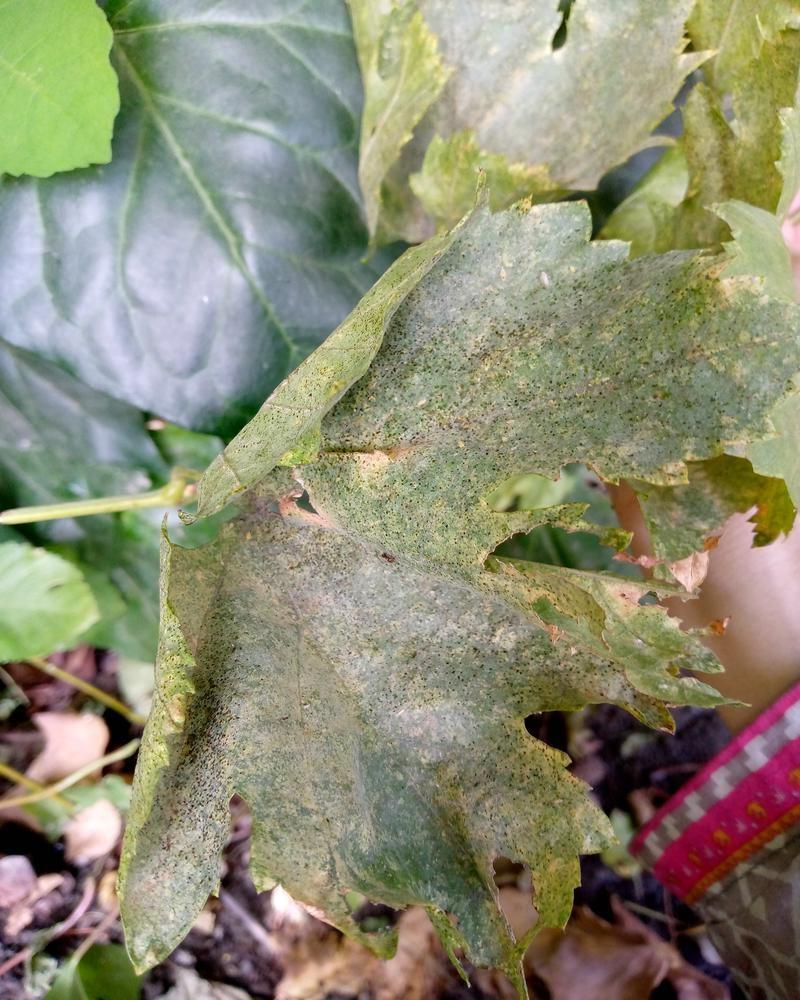Powdery-Mildew: (323, 552, 516, 782), (400, 207, 620, 361), (109, 709, 231, 958), (639, 255, 799, 443), (239, 408, 415, 550), (522, 557, 683, 706)
